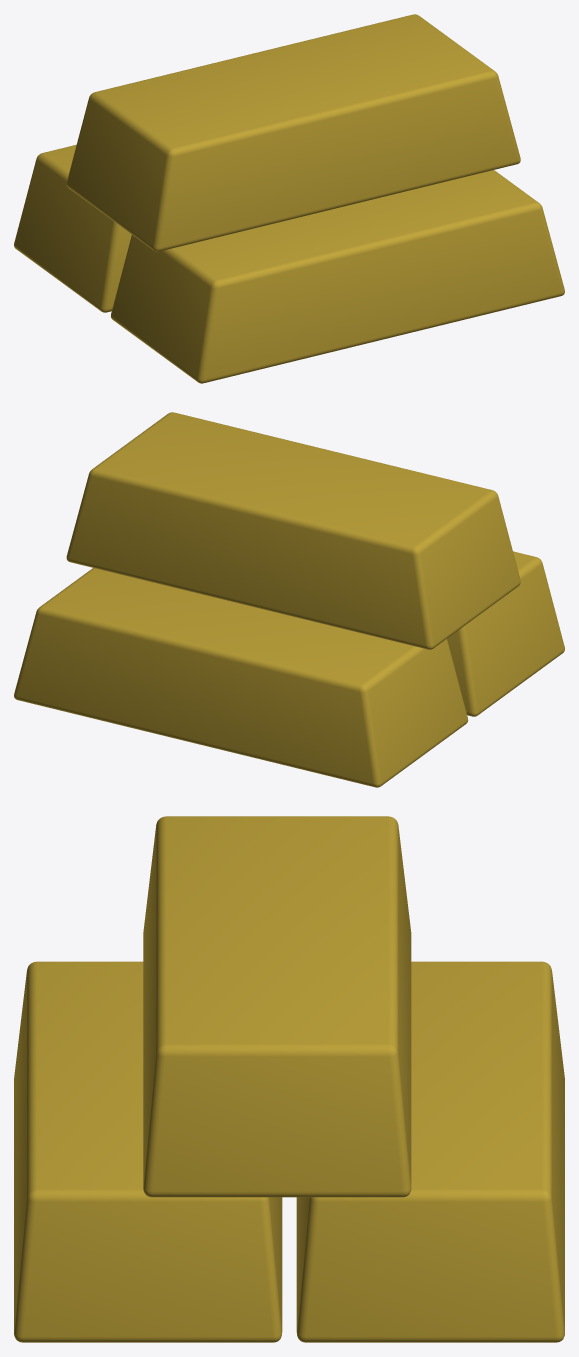
The model's file is Gold_Small_Pile.fbx.
The picture shows the model from 3 angles, top to bottom: view 1: azimuth 30°, elevation 25°; view 2: azimuth 150°, elevation 25°; view 3: azimuth 270°, elevation 25°; orthographic projection. The views are drawn at different scales.
Parts seen in each view (by area): view 1: Cube.009; view 2: Cube.009; view 3: Cube.009.
Part boxes in pixels (bbox=[...]): Cube.009: bbox=[14, 14, 564, 383]; Cube.009: bbox=[14, 412, 564, 787]; Cube.009: bbox=[14, 816, 564, 1342].
Bounding box in the file's own units: 20.14 × 10.17 × 17.92.
